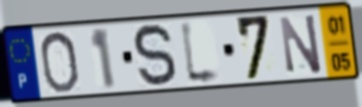1: (89, 26, 118, 92)
7: (233, 13, 273, 83)
L: (178, 17, 225, 88)
N: (277, 11, 324, 76)
O: (38, 29, 81, 96)
S: (131, 21, 179, 90)
